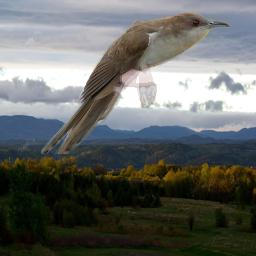Cuckoo: (41, 12, 230, 154)
